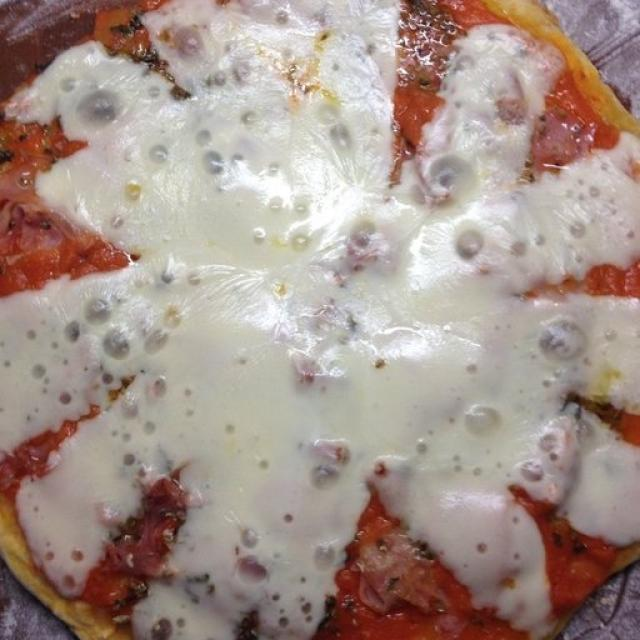Cheese: (4, 0, 640, 640)
